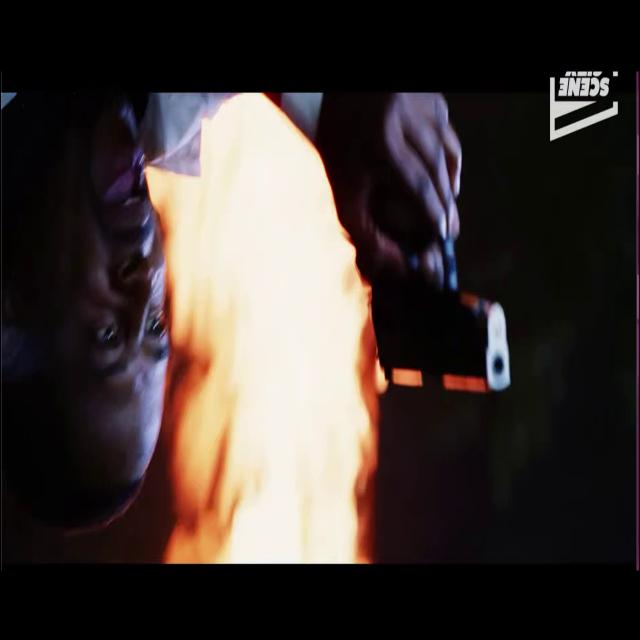weapons: (357, 176, 515, 420)
